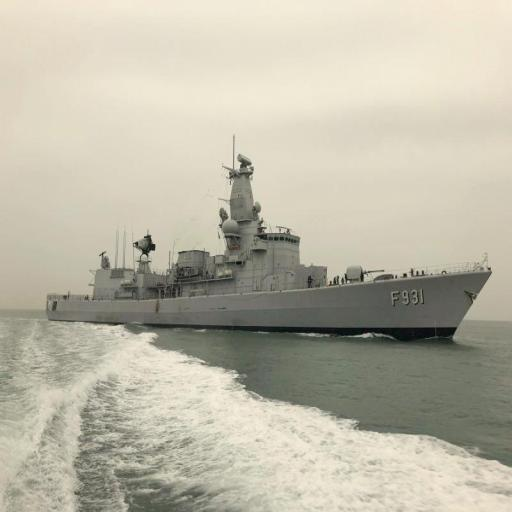Fragata: (43, 136, 497, 355)
